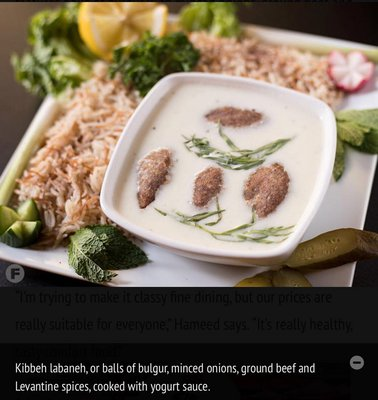curry: (11, 4, 113, 99), (109, 30, 200, 99), (66, 224, 150, 283)
salad: (233, 228, 378, 285)
sushi: (99, 71, 374, 267)
